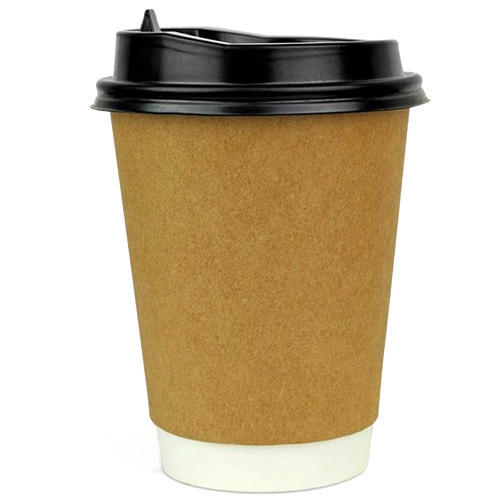Rec_Paper: (102, 37, 409, 495)
